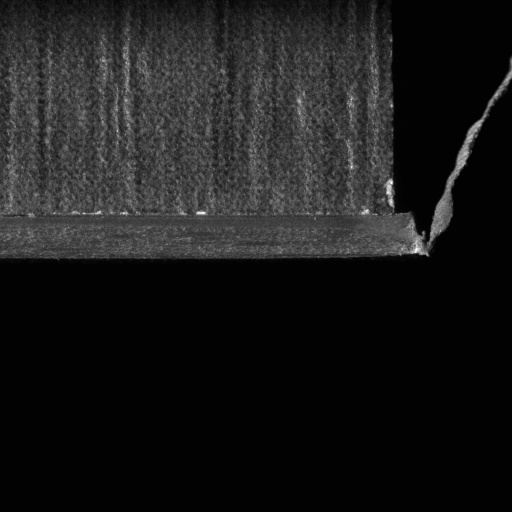changdai: (418, 69, 511, 257)
